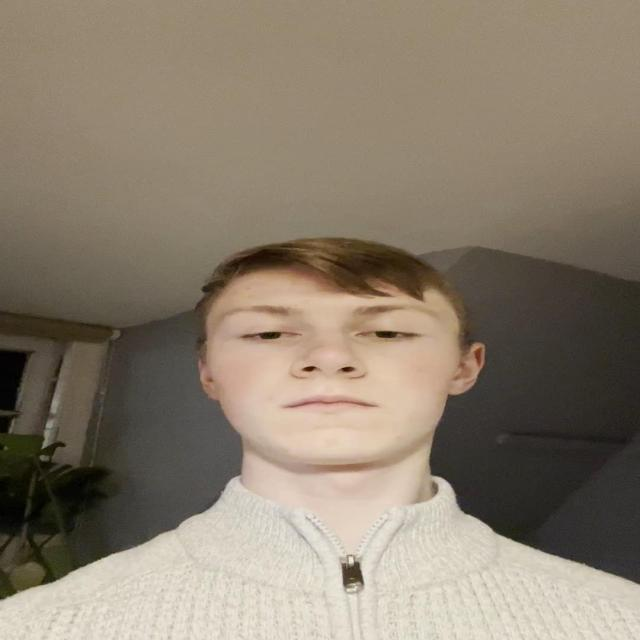no-helmet: (189, 235, 485, 496)
